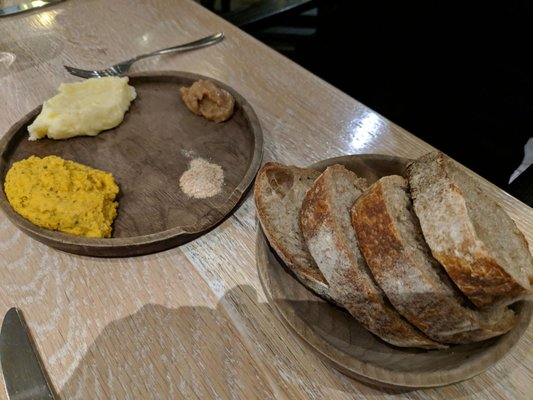salad: (69, 32, 225, 78)
sandwich: (0, 307, 59, 400)
